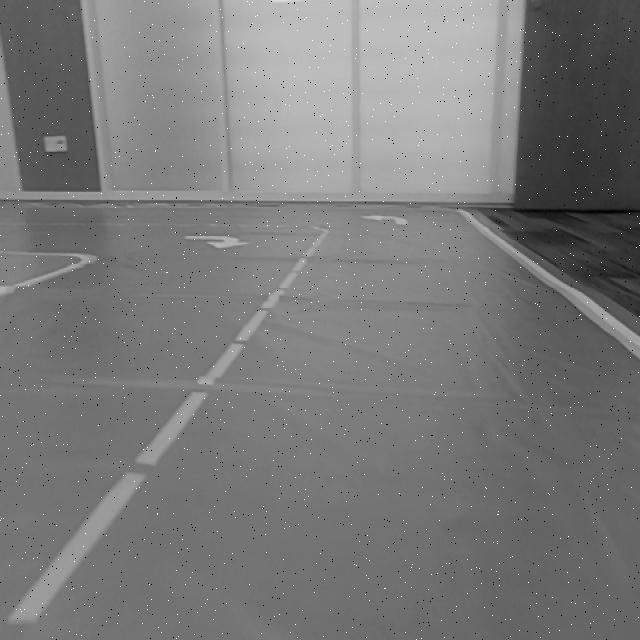left_lane: (7, 238, 322, 625)
right_lane: (471, 222, 640, 361)
